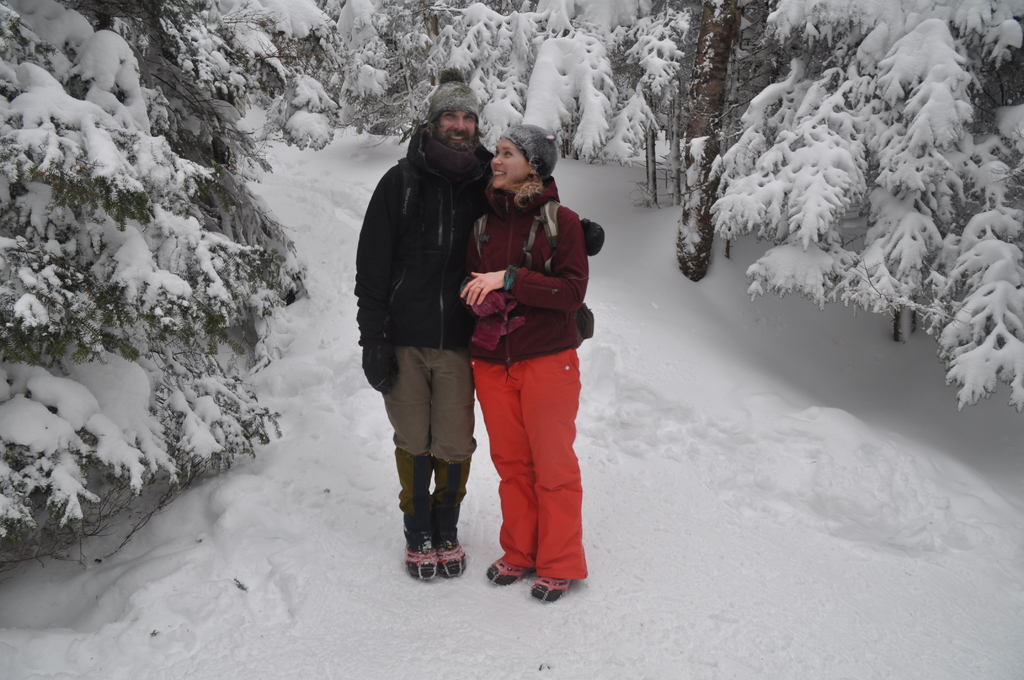Tree: (250, 0, 1023, 434), (0, 0, 320, 576)
